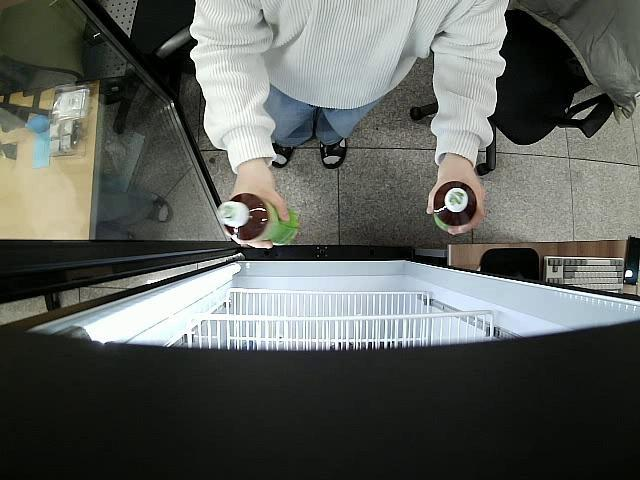19_17cha: (216, 192, 300, 247), (432, 182, 478, 234)
